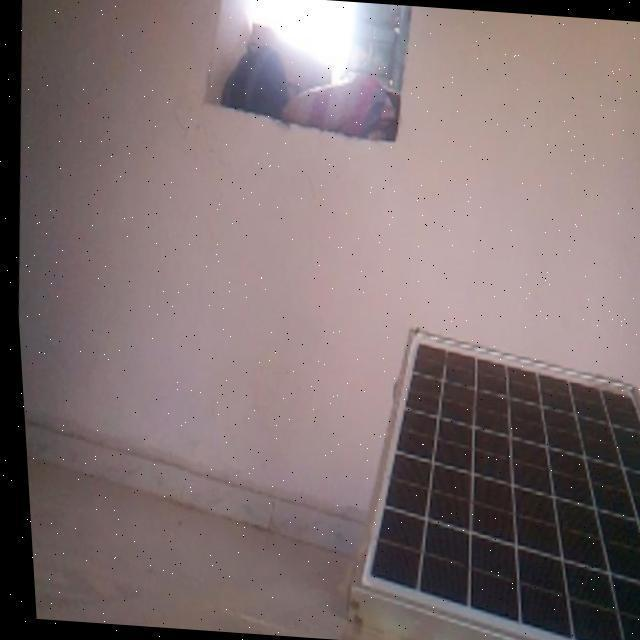Normal Solar Panel: (342, 327, 640, 640)
